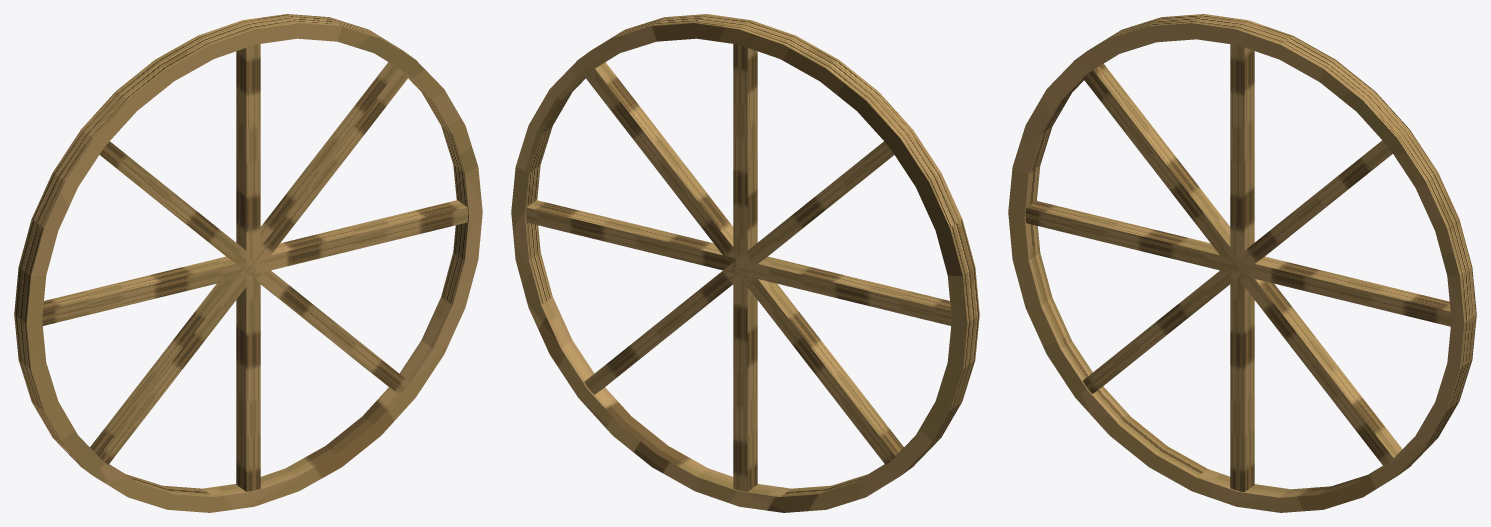
Rendered from spinning_wheel_wheel.obj.
3 renders of one model, left to right at view 1: azimuth 30°, elevation 25°; view 2: azimuth 150°, elevation 25°; view 3: azimuth 330°, elevation 25°, orthographic.
Parts seen in each view (by area): view 1: outside_Cylinder, spoke2_Cube.003, spoke3_Cube.001, spoke1_Cube.002, spoke4_Cube.004; view 2: outside_Cylinder, spoke2_Cube.003, spoke1_Cube.002, spoke3_Cube.001, spoke4_Cube.004; view 3: outside_Cylinder, spoke4_Cube.004, spoke1_Cube.002, spoke3_Cube.001, spoke2_Cube.003.
Boxes of the visible parts, x1,y1,x2,y2 form: outside_Cylinder: [14, 14, 482, 512]; spoke2_Cube.003: [90, 62, 409, 464]; spoke3_Cube.001: [236, 44, 260, 491]; spoke1_Cube.002: [42, 200, 468, 325]; spoke4_Cube.004: [99, 141, 409, 394]; outside_Cylinder: [511, 14, 979, 512]; spoke2_Cube.003: [584, 62, 903, 464]; spoke1_Cube.002: [525, 200, 951, 325]; spoke3_Cube.001: [733, 44, 757, 491]; spoke4_Cube.004: [584, 141, 894, 394]; outside_Cylinder: [1008, 14, 1476, 512]; spoke4_Cube.004: [1083, 63, 1402, 466]; spoke1_Cube.002: [1025, 200, 1451, 326]; spoke3_Cube.001: [1230, 44, 1254, 491]; spoke2_Cube.003: [1083, 140, 1392, 393].
Bounding box in the file's own units: 0.8385 × 0.8385 × 0.0395.
